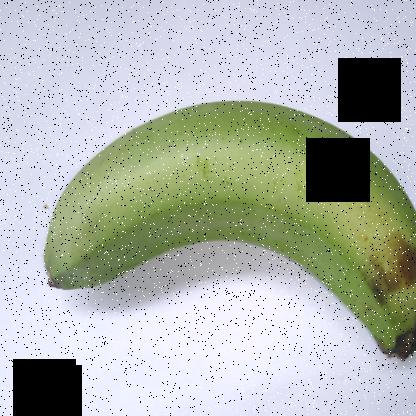freshunripe: (32, 94, 415, 372)
